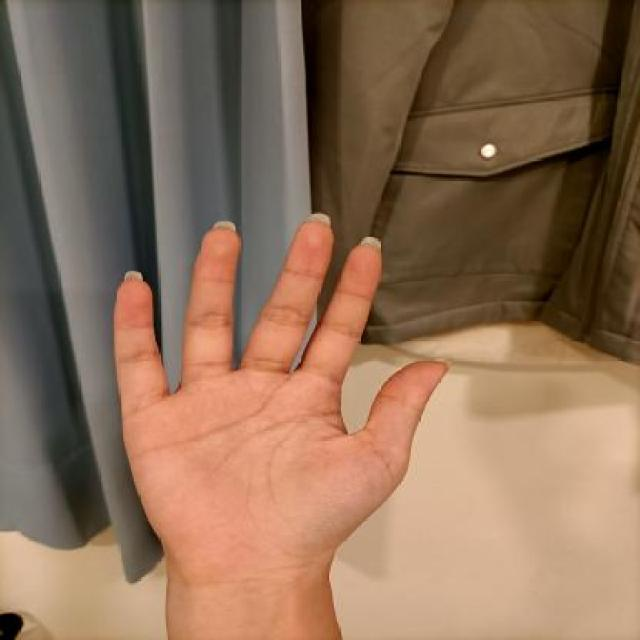bare_hand: (94, 205, 457, 584)
